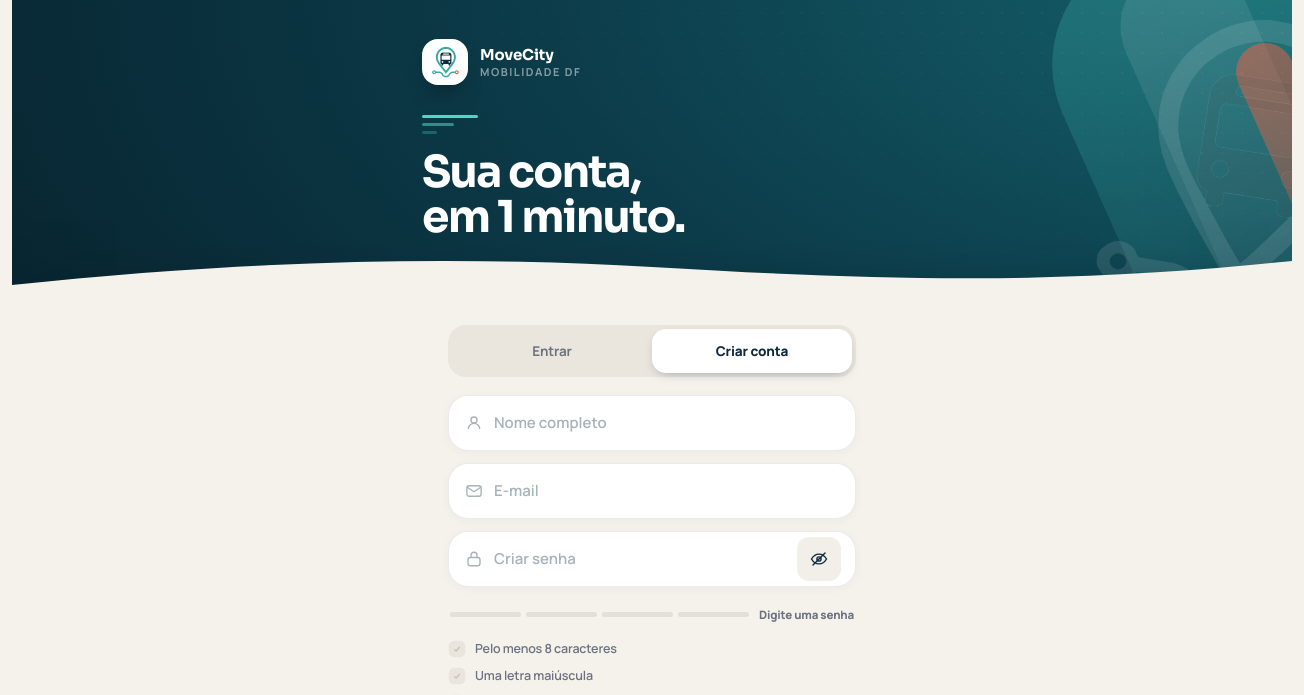
Test case: Cadastro › informa e-mail já em uso quando o backend retorna 409
The image size is (1304, 695).
Type "Ana Passageira" into the field labelled "Nome" at (668, 423), box [494,396,841,450]
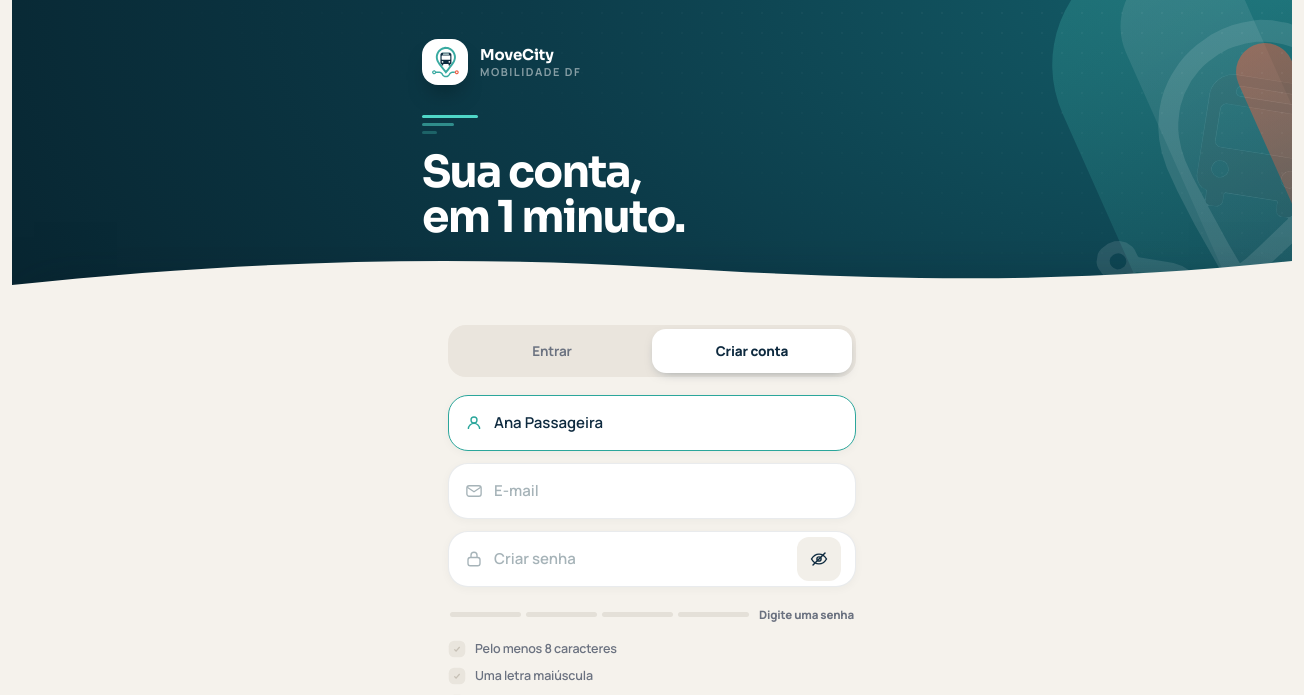
Type "ana@example.com" into the field labelled "E-mail" at (668, 491), box [494,464,841,518]
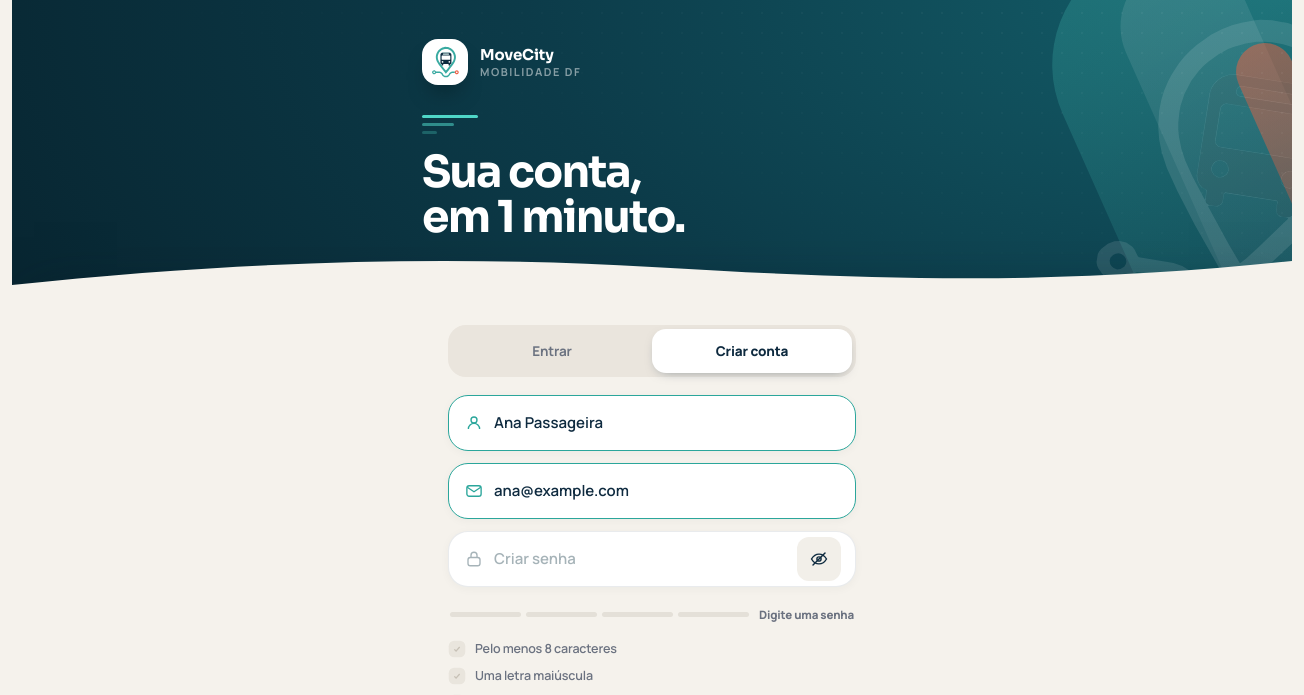
Type "senha123" into the password field labelled "senha" at (640, 559), box [494,532,786,586]
(page scrolled)
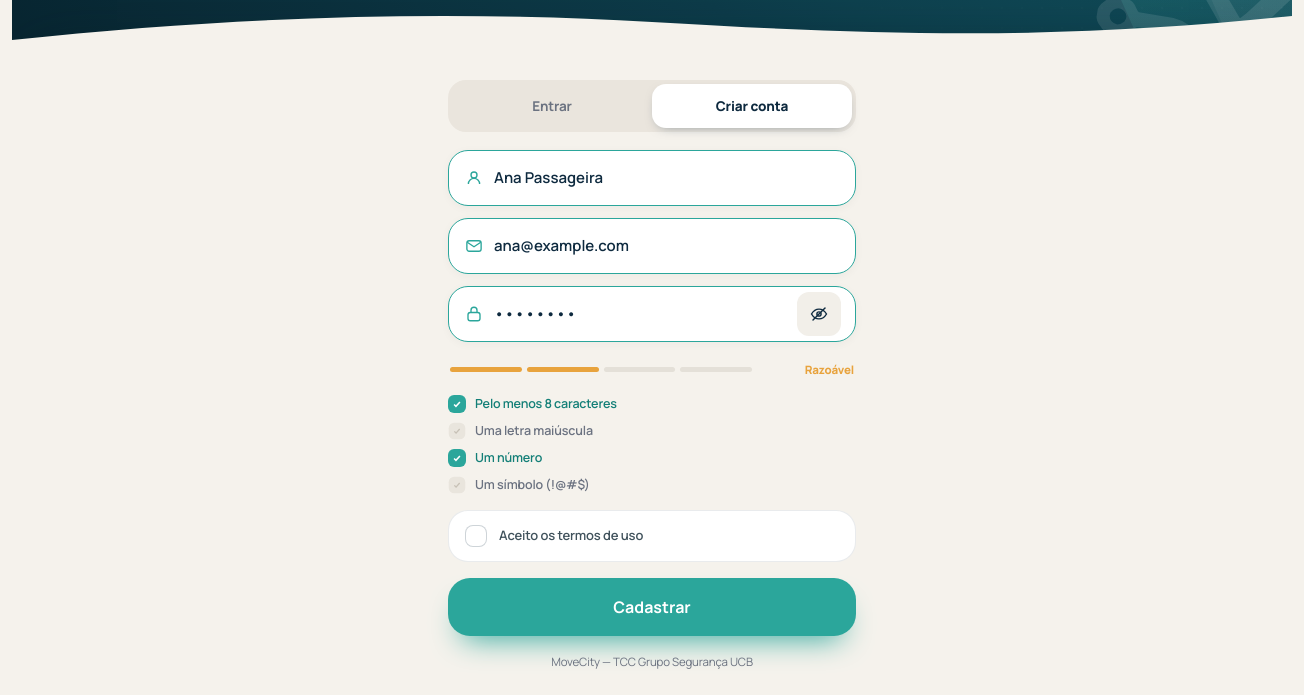
Click the checkbox labelled "Aceito os termos de uso" at (571, 535), box [448,510,856,562]
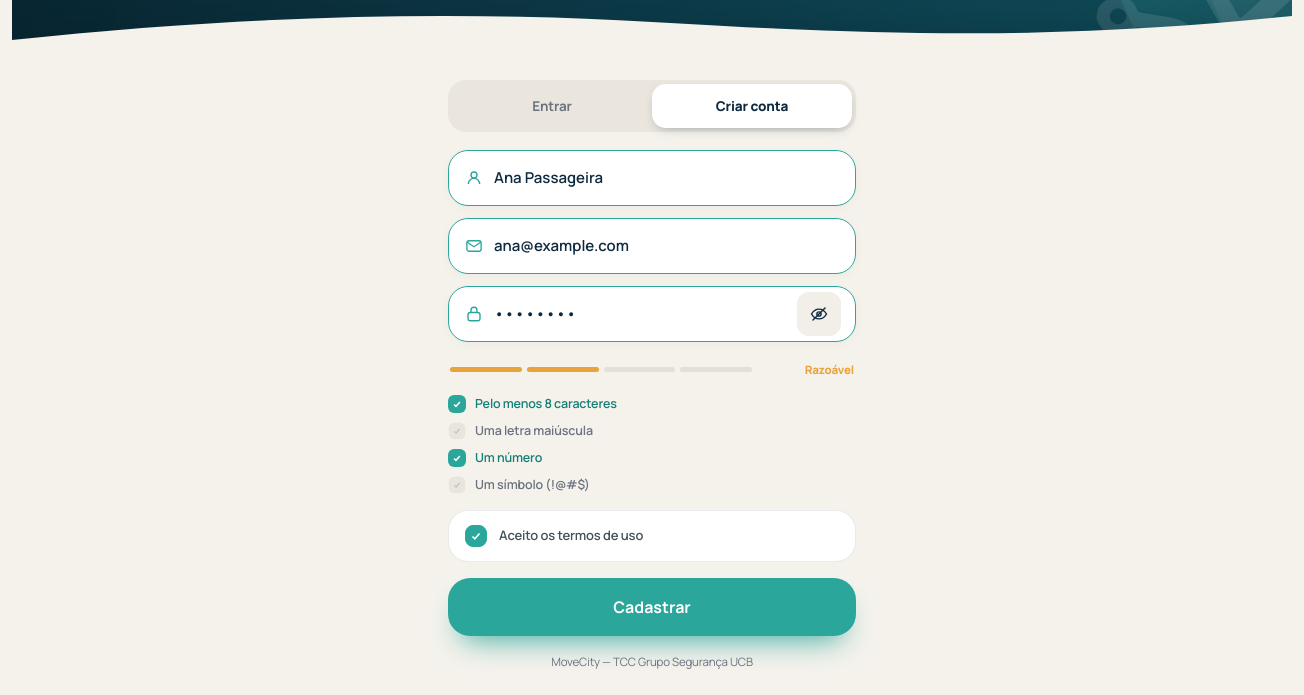
Click the button "Cadastrar" at (652, 607), box [448,578,856,636]
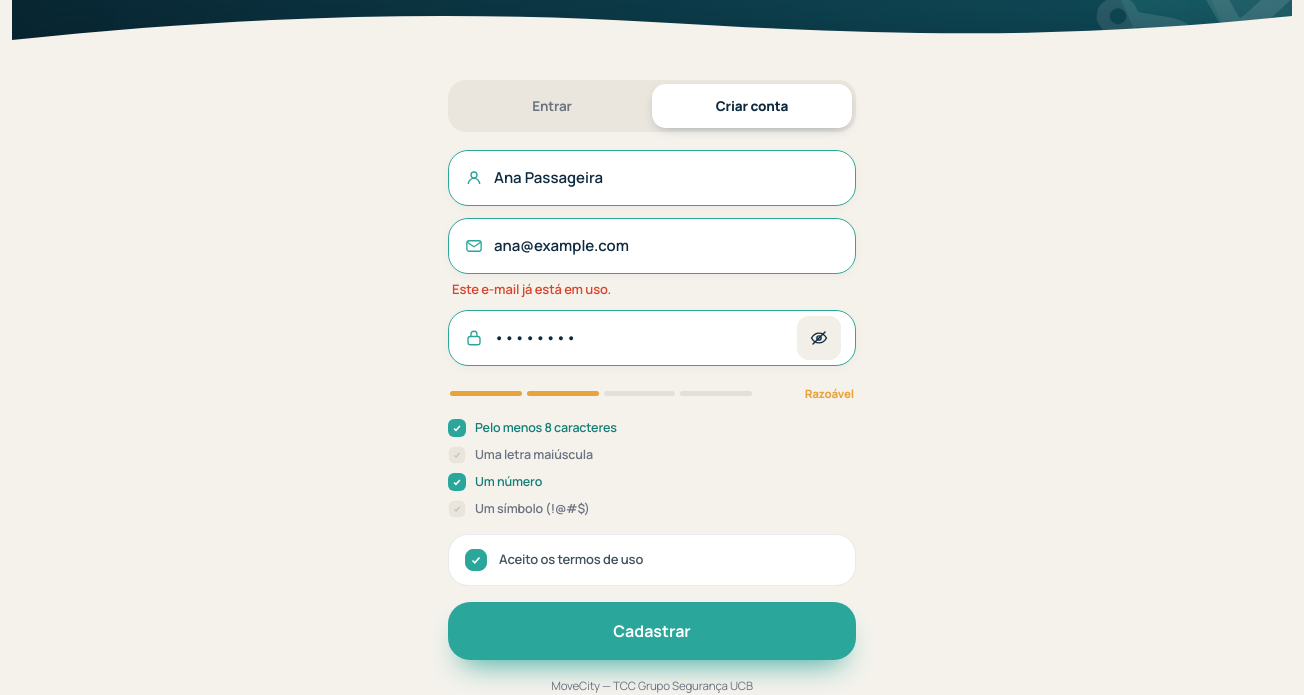
Check: the text "Este e-mail já está em uso." is shown, box [452,280,611,298]
